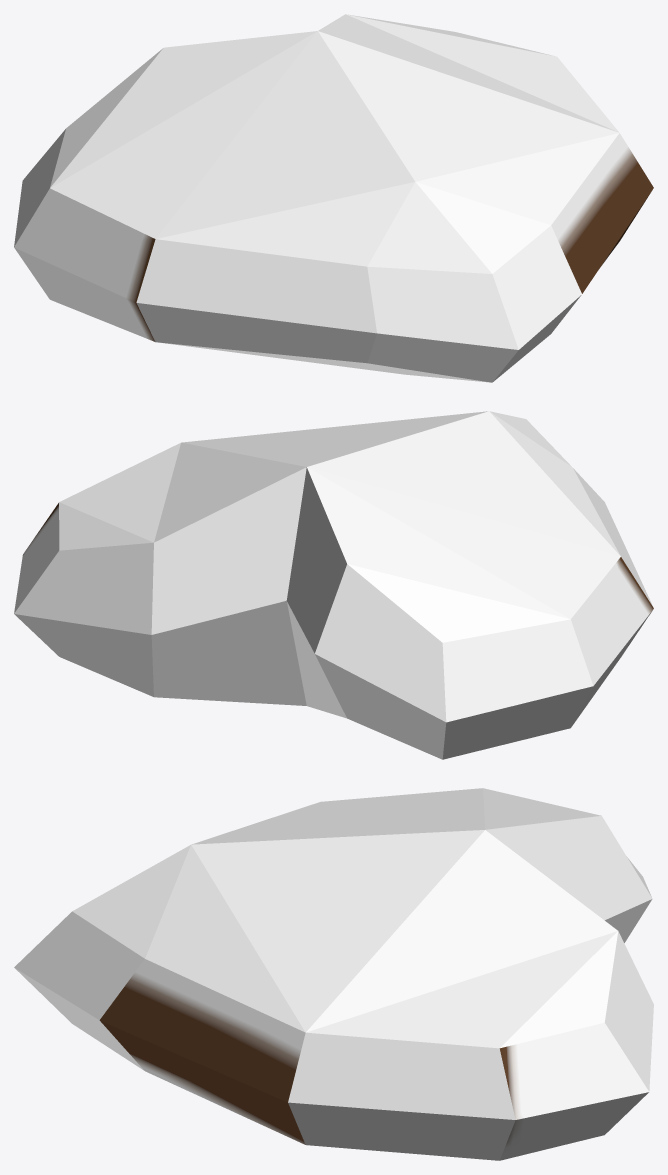
Rendered from Serdce.fbx.
3 renders of one model, top to bottom at view 1: azimuth 30°, elevation 25°; view 2: azimuth 150°, elevation 25°; view 3: azimuth 270°, elevation 25°, orthographic. The views are drawn at different scales.
Parts seen in each view (by area): view 1: Плоскость; view 2: Плоскость; view 3: Плоскость.
Part boxes in pixels (box(x1,y1,x2,y2)): Плоскость: box(14, 14, 653, 382); Плоскость: box(14, 411, 653, 759); Плоскость: box(14, 788, 653, 1160).
Size of the model in its own units: 251 by 112 by 234.
1 material, 1 textured.
